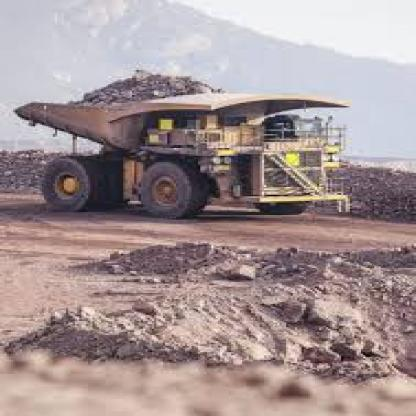dump_truck: (15, 64, 372, 237)
